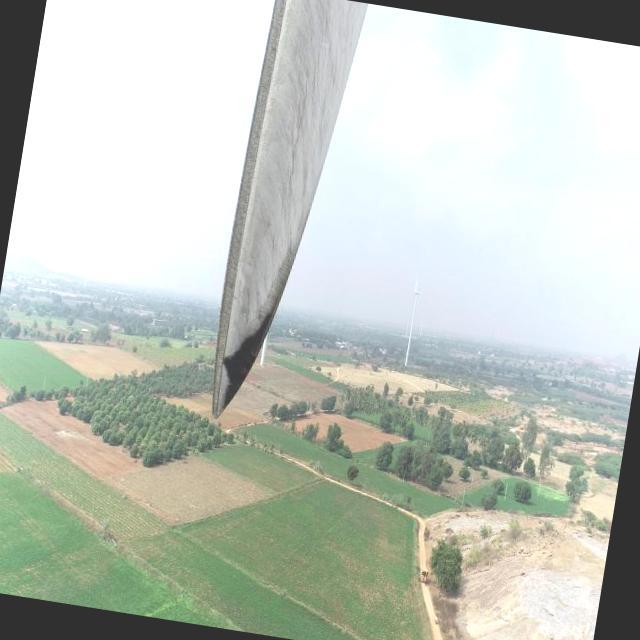Dirt: (214, 0, 369, 413)
Oil LEAKAGE: (220, 302, 278, 412)
Pin Hole: (220, 356, 231, 368)
